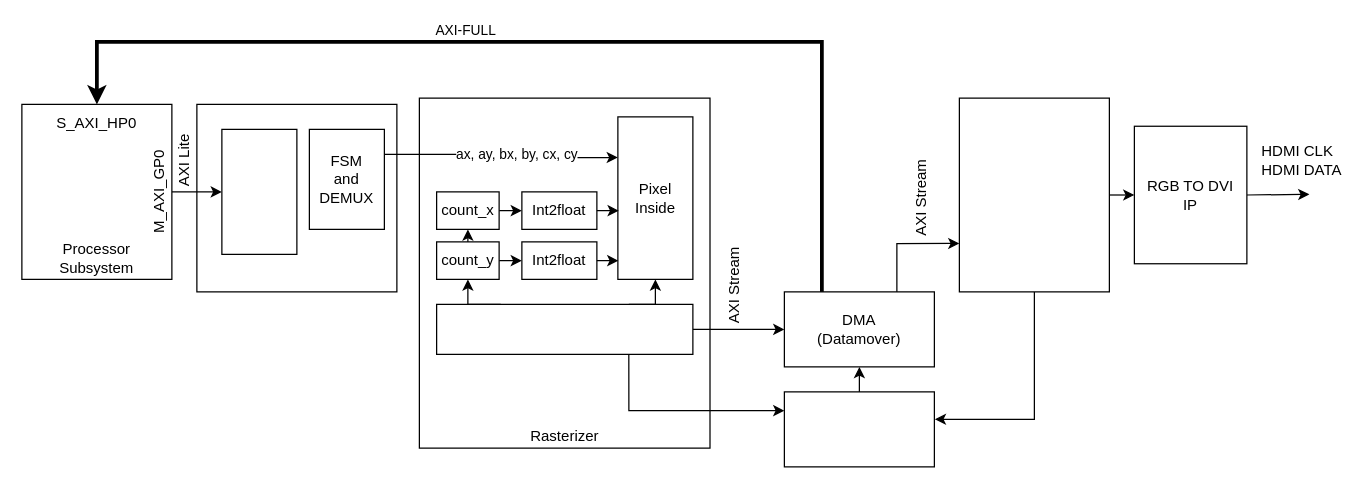
This 1369x489 diagram has some shape labels left out. The shapes that lost their labels are listed below. From the top down, each one's box as (x1, y1, x2, y2) in pixels, then its label:
(221, 128, 297, 254): Triangles (BRAM)
(196, 103, 397, 292): Frame Generator
(958, 97, 1109, 292): Frame Buffer Fetch
(435, 303, 693, 354): FSM
(783, 391, 934, 467): DMA Controller
